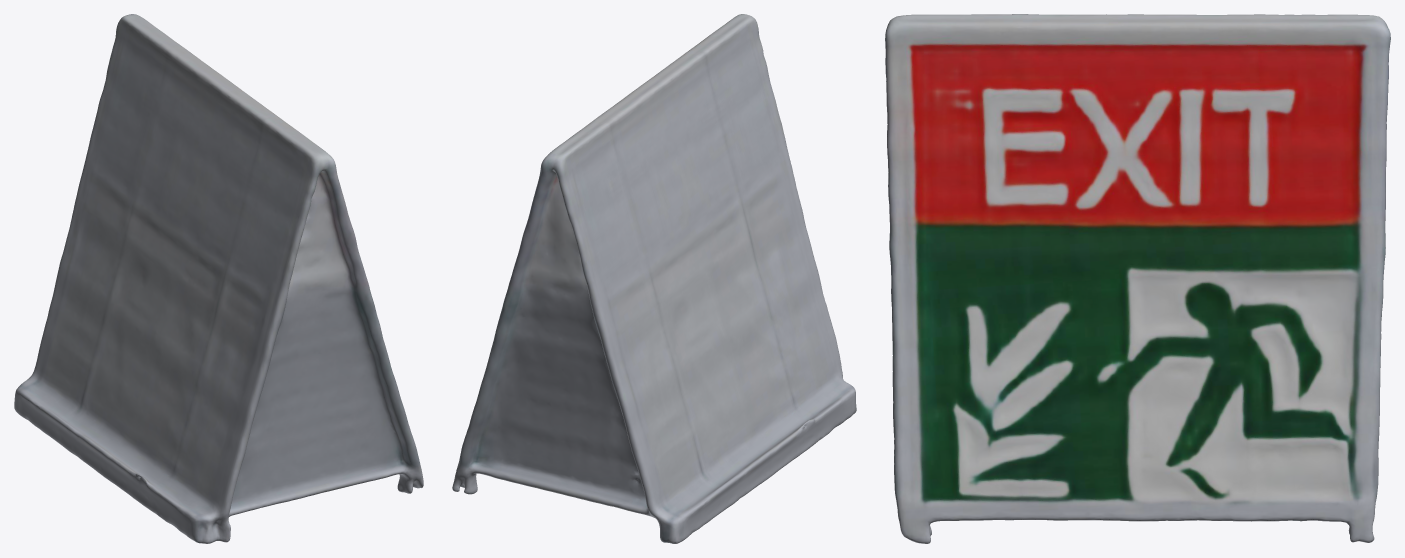
File: 161d0d37cf4e_exit_sign__3d_asset.fbx
3 renders of one model, left to right at view 1: azimuth 30°, elevation 25°; view 2: azimuth 150°, elevation 25°; view 3: azimuth 270°, elevation 25°, orthographic. The views are drawn at different scales.
Visible parts, largest first — view 1: high_poly; view 2: high_poly; view 3: high_poly.
Boxes of the visible parts, x1=… form: high_poly: x1=14, y1=14, x2=423, y2=543; high_poly: x1=452, y1=14, x2=856, y2=543; high_poly: x1=885, y1=14, x2=1390, y2=543.
Bounding box in the file's own units: 65.21 × 100 × 98.98.
